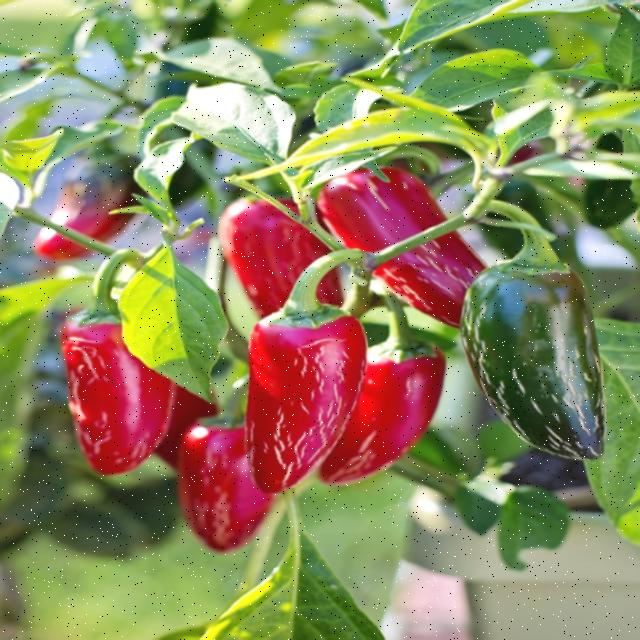Chili Pepper: (441, 261, 640, 513), (284, 139, 498, 301), (157, 365, 288, 594), (224, 299, 358, 484), (330, 333, 484, 485), (45, 298, 173, 479), (184, 174, 344, 314), (8, 124, 148, 264)
